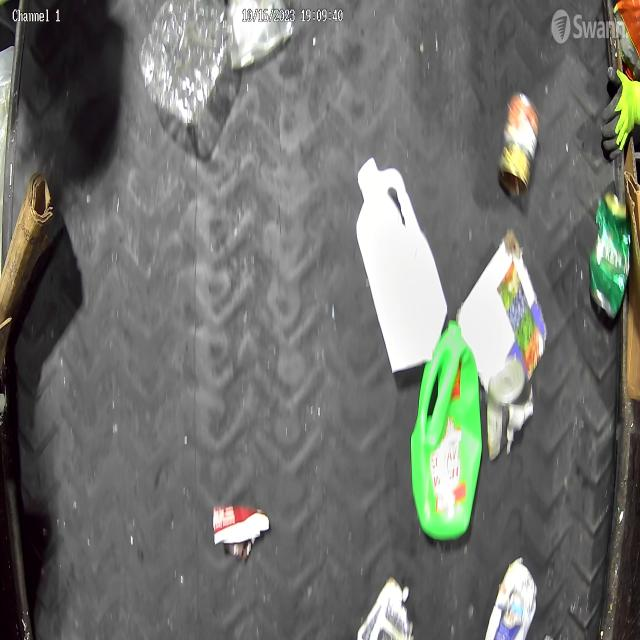can: (587, 187, 632, 321), (227, 0, 294, 73), (497, 88, 540, 201)
milk_jug: (352, 156, 451, 385)
non_white_jug: (409, 316, 484, 544)
